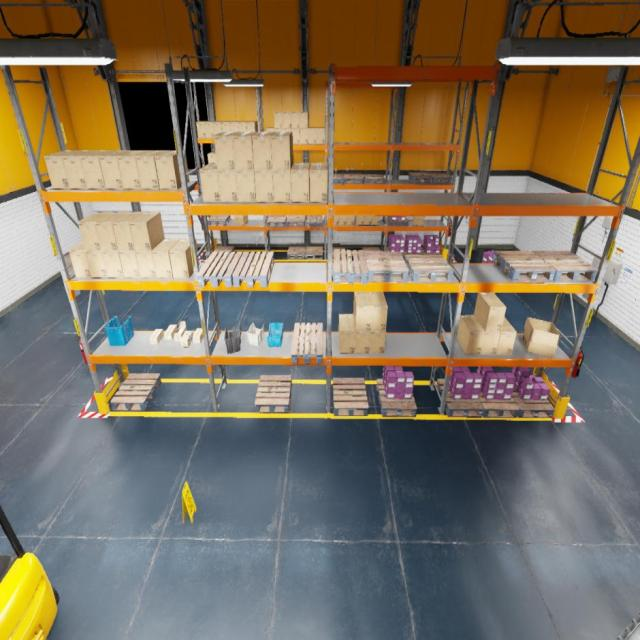box: (522, 317, 560, 358), (44, 150, 82, 188), (80, 150, 116, 188), (62, 150, 98, 188), (155, 150, 189, 190), (129, 212, 164, 250), (117, 150, 150, 190), (78, 212, 112, 250), (136, 150, 168, 190), (99, 150, 132, 188), (95, 212, 128, 250), (474, 293, 506, 331), (112, 212, 144, 250), (169, 239, 199, 278), (457, 314, 485, 354), (152, 238, 180, 278), (474, 314, 500, 354), (213, 132, 240, 170), (233, 132, 257, 170), (252, 132, 275, 170), (271, 132, 293, 170), (69, 242, 92, 277), (200, 162, 220, 202), (496, 317, 517, 355), (353, 292, 372, 331), (291, 163, 310, 202), (369, 292, 387, 331), (338, 314, 355, 354), (310, 163, 327, 202), (254, 170, 274, 202), (272, 170, 292, 202), (236, 170, 256, 202), (218, 170, 238, 202), (101, 251, 124, 278), (85, 251, 108, 278), (134, 251, 156, 278), (118, 251, 140, 278), (370, 331, 386, 353), (355, 331, 370, 353), (174, 321, 186, 341), (150, 329, 164, 344), (204, 120, 215, 138), (196, 120, 207, 138), (164, 325, 177, 340), (180, 331, 192, 346), (290, 112, 300, 128), (213, 121, 224, 135), (233, 216, 248, 226), (193, 328, 203, 342), (412, 216, 425, 226), (316, 128, 324, 144), (308, 128, 316, 144), (292, 128, 300, 144), (300, 128, 308, 144), (300, 112, 308, 128), (282, 112, 290, 128), (274, 112, 282, 128), (246, 122, 258, 132), (238, 122, 248, 132), (230, 122, 240, 132), (222, 122, 232, 132), (208, 152, 215, 163), (372, 216, 380, 225), (364, 216, 372, 225), (356, 216, 364, 225), (346, 216, 354, 225), (339, 216, 347, 225), (334, 216, 338, 225), (266, 128, 274, 132), (215, 154, 217, 162)
forklift: (0, 506, 59, 640)
pallets: (532, 250, 598, 282), (110, 374, 162, 411), (436, 378, 484, 418), (493, 251, 556, 281), (197, 251, 242, 287), (376, 378, 416, 416), (233, 252, 274, 287), (255, 375, 292, 413), (365, 250, 408, 282), (333, 378, 368, 416), (405, 255, 454, 282), (511, 388, 555, 418), (333, 248, 368, 284), (291, 324, 322, 364), (478, 391, 518, 417), (428, 172, 452, 183), (408, 172, 432, 183), (214, 247, 234, 260), (287, 247, 306, 260), (267, 215, 287, 227), (305, 247, 323, 260), (386, 248, 405, 260), (208, 216, 230, 226), (286, 215, 306, 226), (388, 216, 409, 226), (364, 174, 384, 184), (344, 174, 363, 184), (327, 173, 344, 184), (332, 247, 346, 260), (307, 216, 322, 227), (421, 248, 440, 255), (362, 247, 381, 253), (404, 248, 423, 254)
